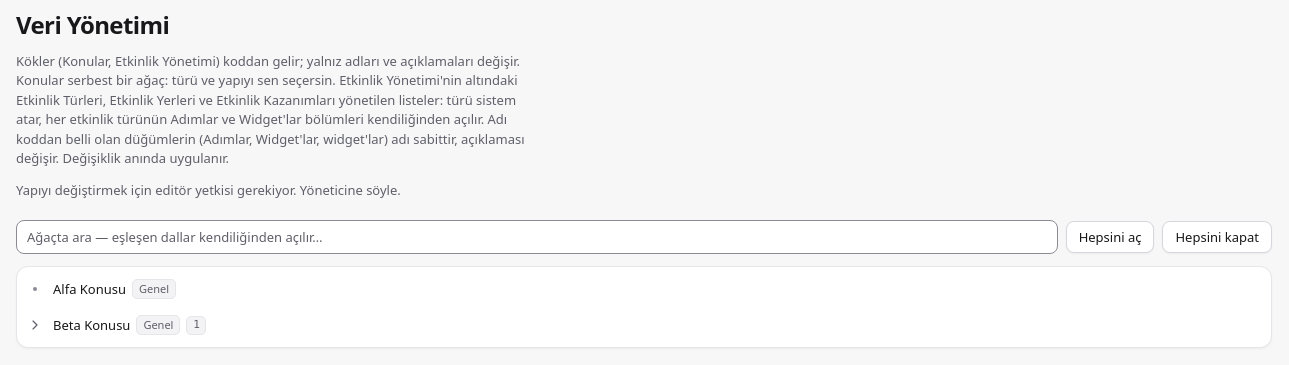
Test: arama: eslesenler + ustleri gorunur, geri kalani gizli › eslesmeyen dal gizlenir, eslesen ve onun ustu gorunur
This screenshot has width=1289, height=365.
Expected: the text "Alfa Konusu" is shown, x1=53 y1=280 x2=126 y2=299
Expected: the text "Beta Konusu" is shown, x1=53 y1=316 x2=130 y2=335
Type "hedef" into the search field labelled "Ağaçta ara" at (537, 237), box x1=16 y1=220 x2=1058 y2=254
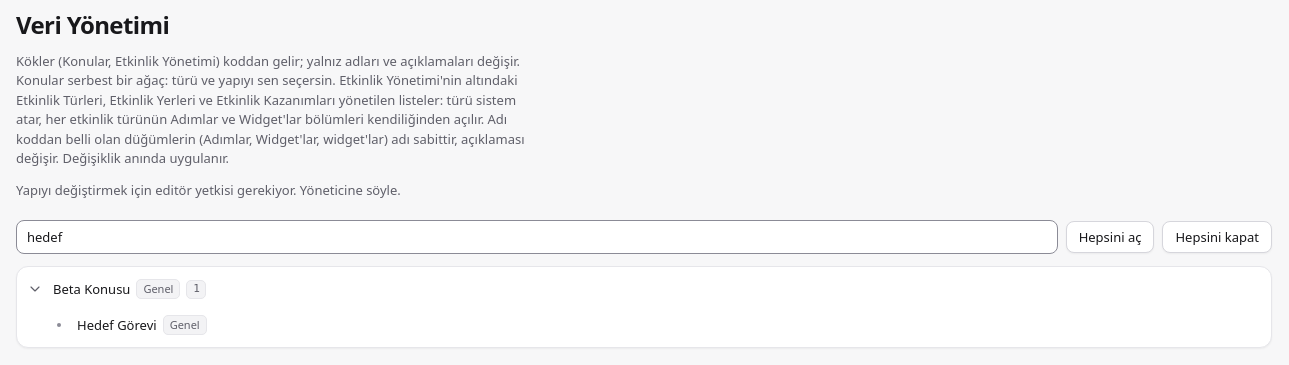
Expected: the text "Beta Konusu" is shown, x1=53 y1=280 x2=130 y2=299
Result: the text "Hedef Görevi" is shown at x1=77 y1=316 x2=157 y2=335
Result: the text "Alfa Konusu" is gone
